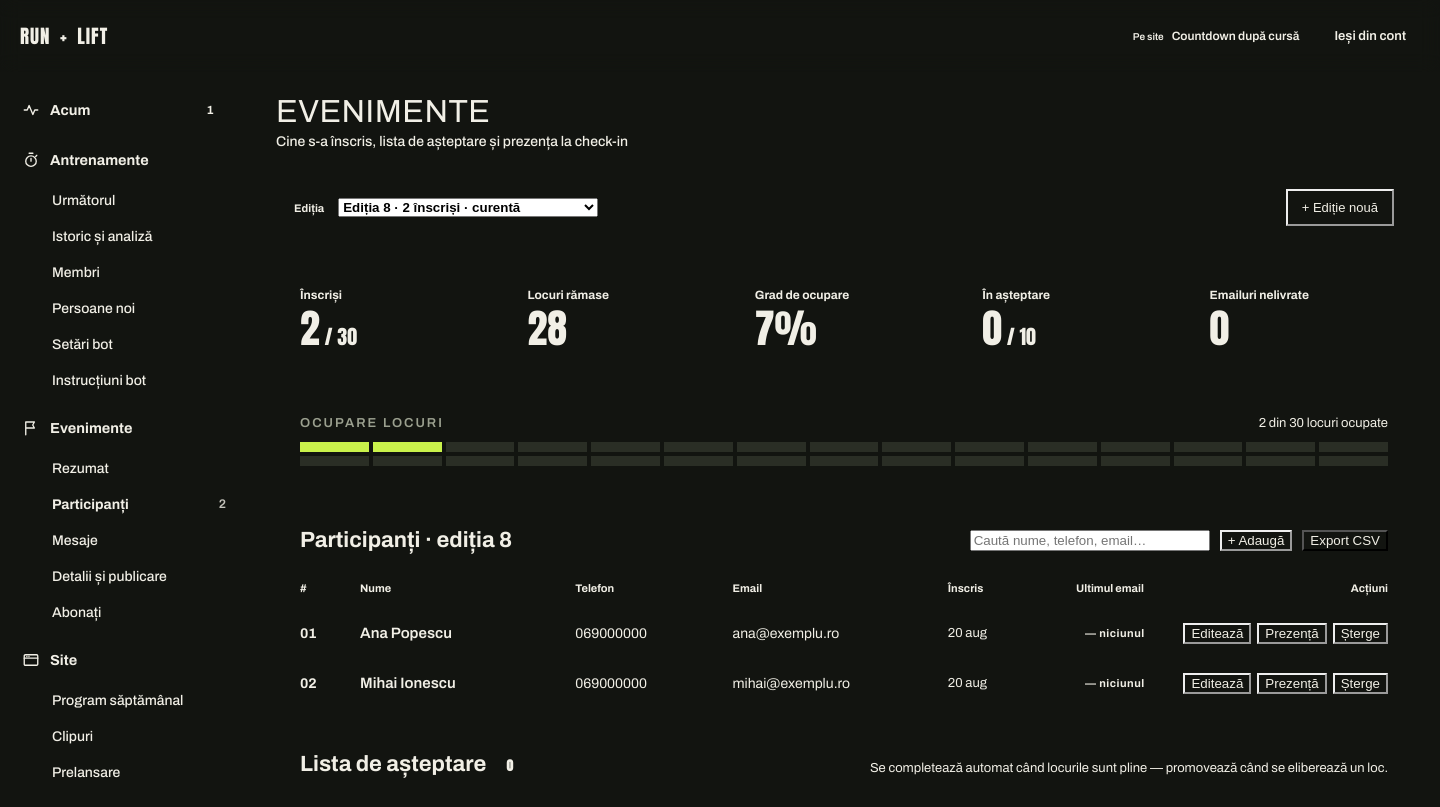
Test: AdminDashboard — undo la ștergere › undo refuzat pentru adresă re-înscrisă spune de ce
Expected: the text "Ana Popescu" is shown, [360,625,452,641]
Click the button "Șterge" in the row of "ana@exemplu.ro" at (1360, 633), box [1333,622,1388,644]
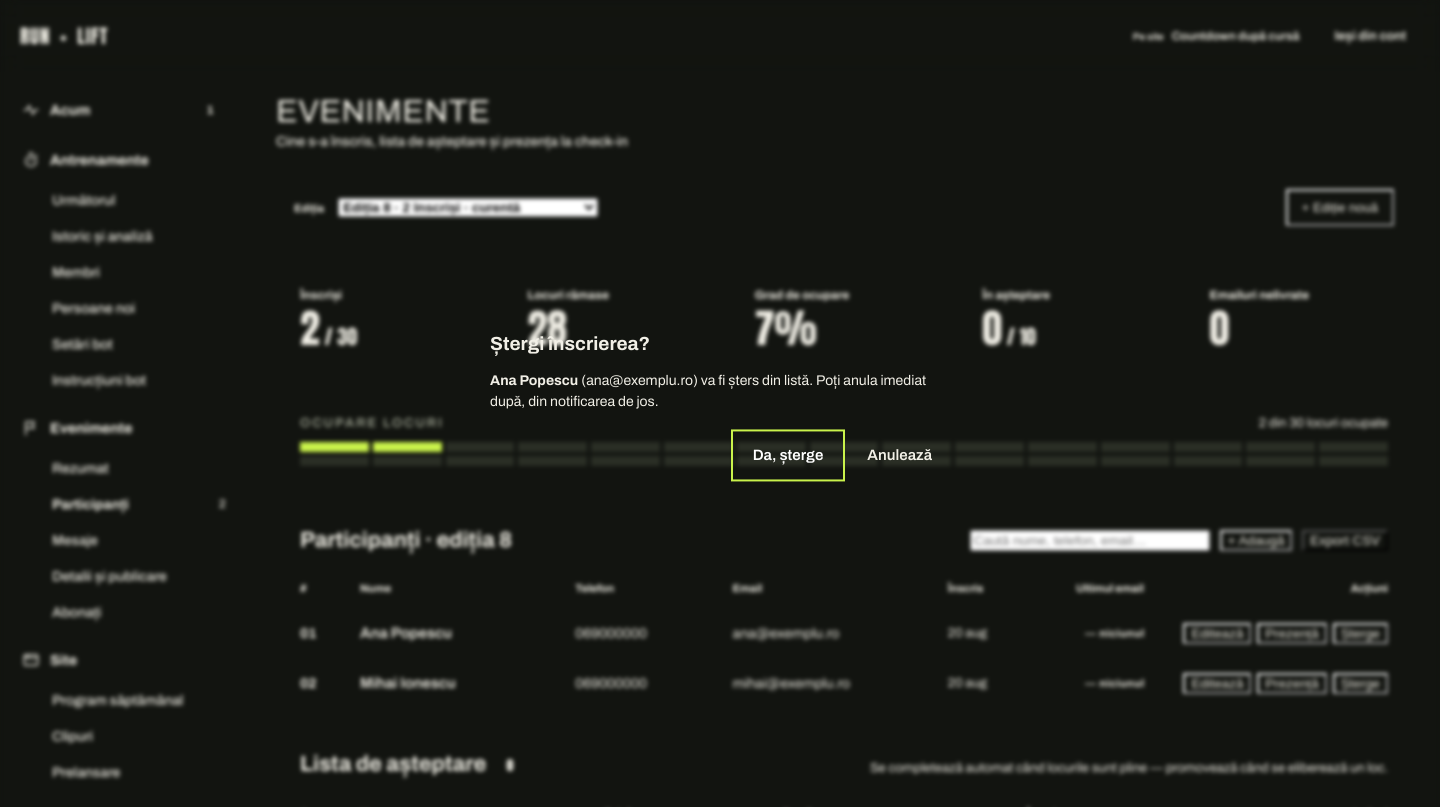
Click the button "Da, șterge" at (788, 456), box [735,434,841,478]
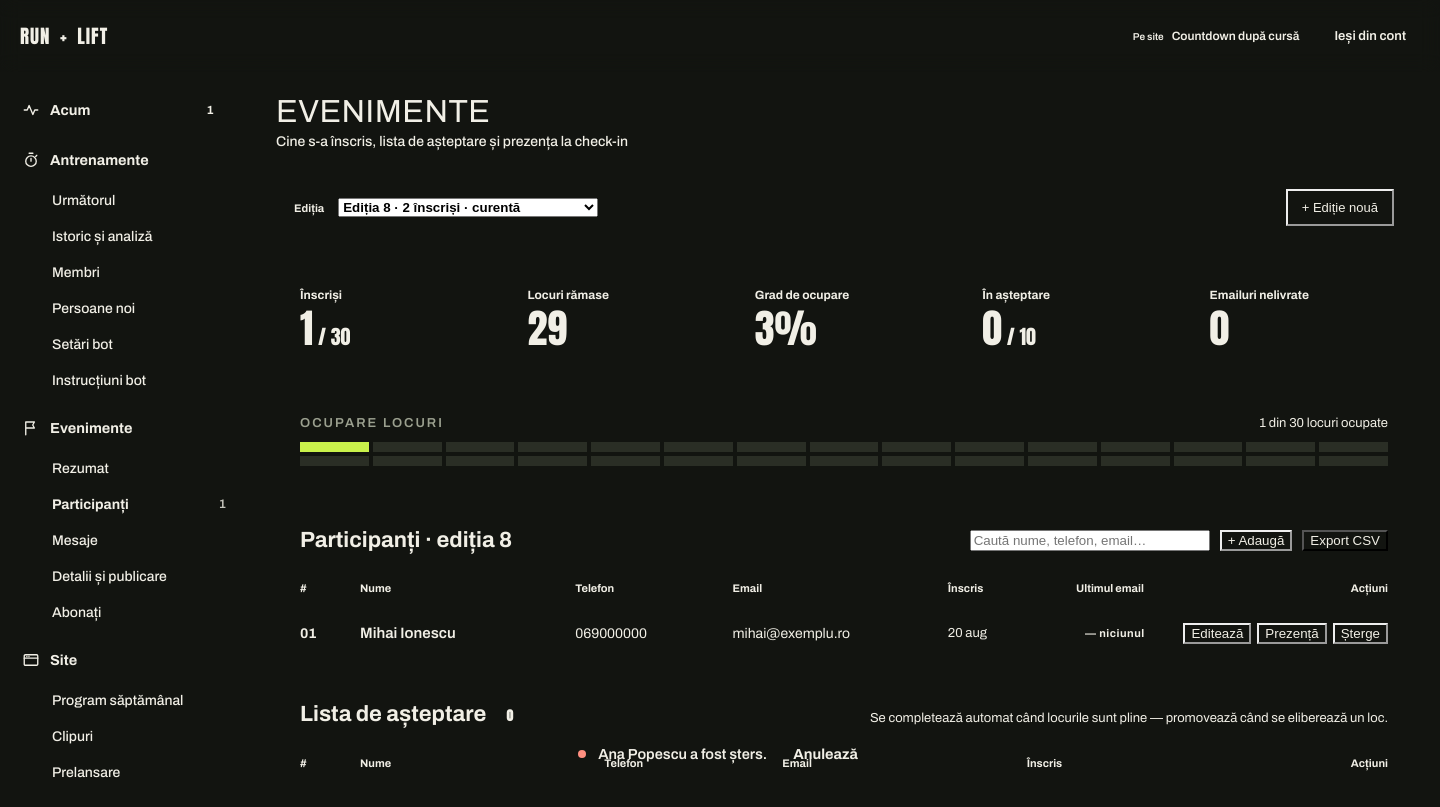
Click the button "Anulează" at (826, 754), box [779,734,872,774]
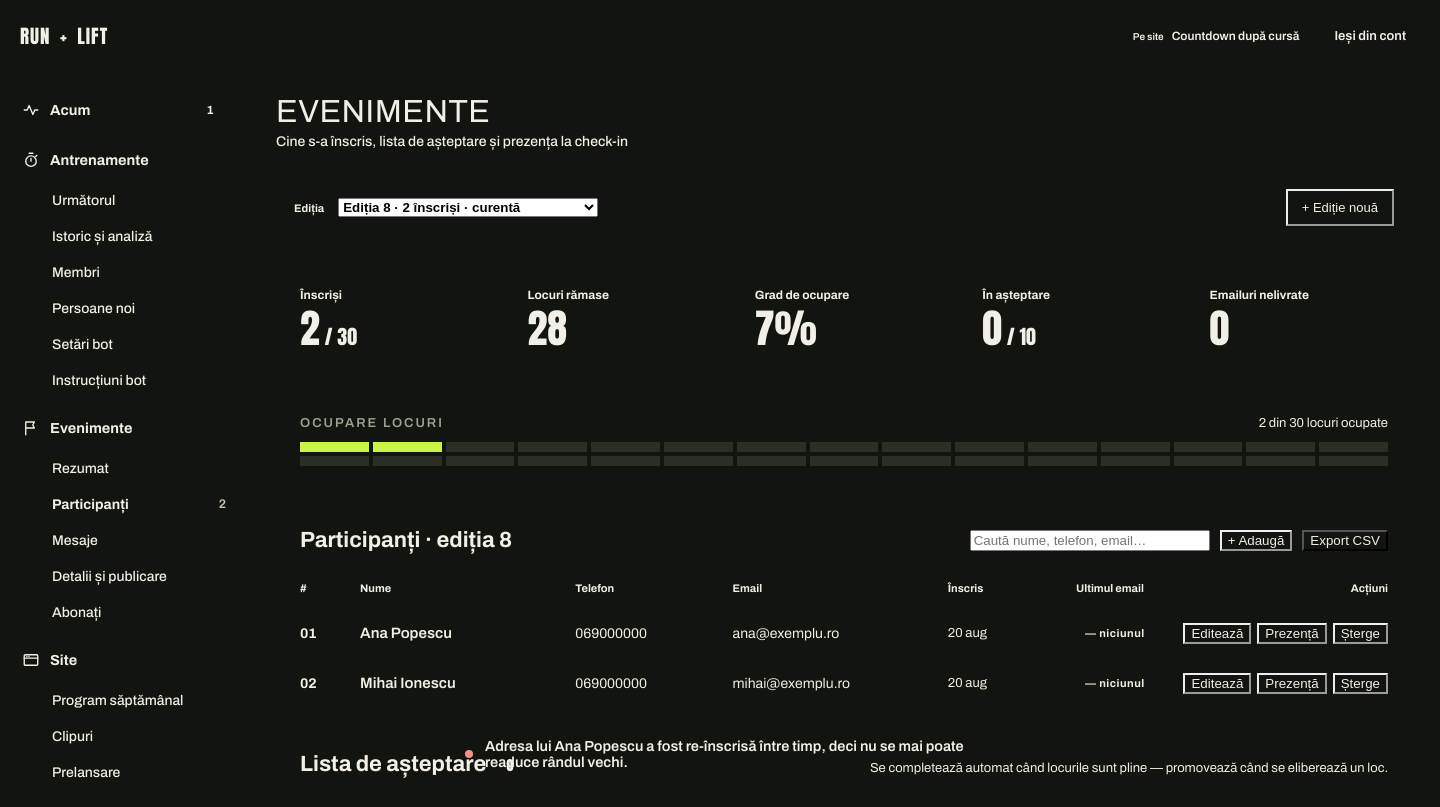
Result: the text "re-înscrisă" is shown at [485,738,964,770]
